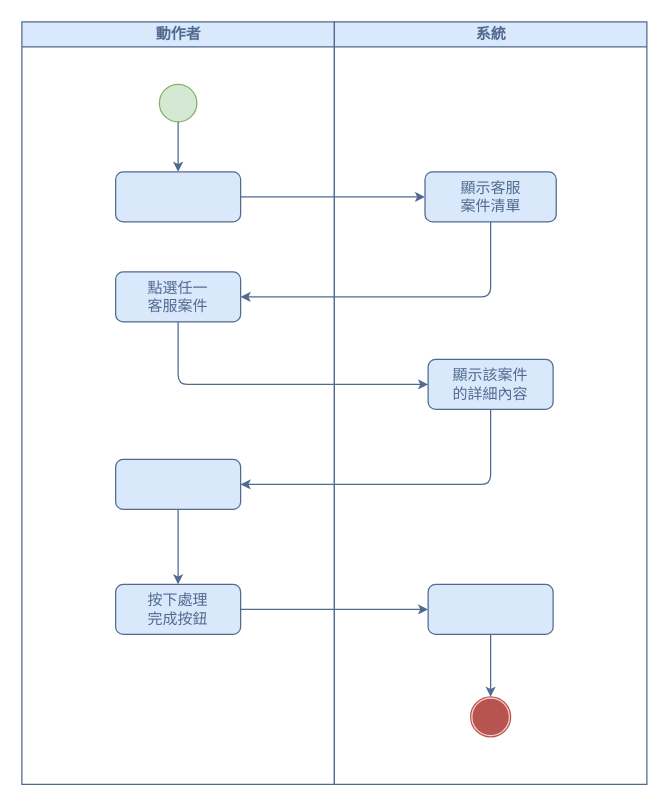
The diagram is 669 pixels wide and 806 high, and some of its shapes have lost their labels. The shapes that lost their labels are listed below. From the top down, each one's box as (x1, y1, x2, y2) in pixels, then its label:
(114, 171, 241, 222): 點選查看客服 案件按鈕
(114, 458, 241, 509): 根據案件內容 做對應處理
(427, 583, 553, 634): 將案件狀態 更改為已解決
